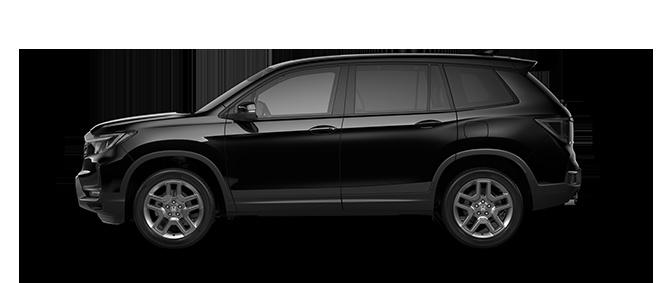Car hood: (88, 109, 213, 132)
Fender - -F-L-: (121, 103, 238, 221)
Fender - -R-L-: (457, 109, 549, 174)
Front bumper: (70, 150, 136, 234)
Headlight - -L-: (80, 125, 142, 160)
Passenger-s door - -F-L-: (225, 57, 348, 212)
Passenger-s door - -R-L-: (341, 58, 457, 212)
Rear bumper: (524, 131, 586, 213)
Rear light - -L-: (531, 114, 580, 147)
Side bumper - -L-: (214, 180, 441, 224)
Side mirror - -L-: (230, 97, 262, 127)
